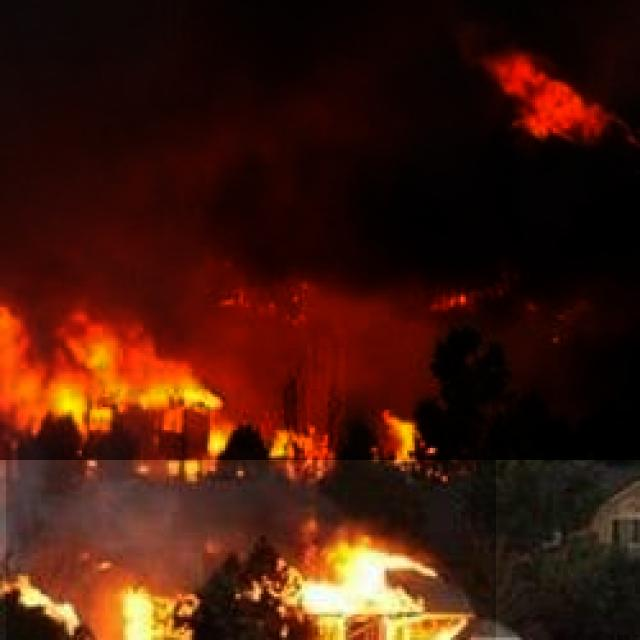Fire: (6, 296, 496, 640)
Smoke: (0, 0, 640, 460)
